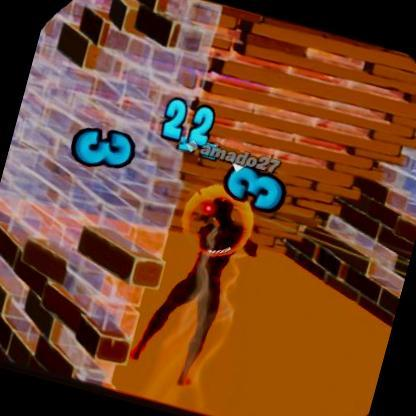person: (144, 181, 260, 372)
